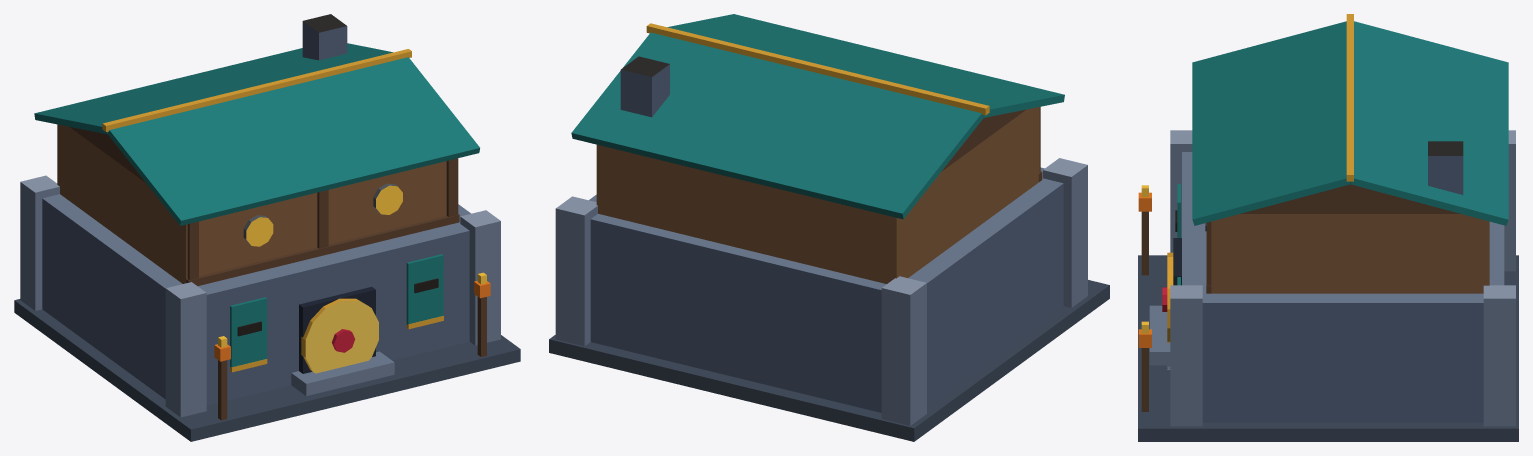
File: bld_guild_hall_3x3.glb
3 views of the same model, side by side, from view 1: azimuth 30°, elevation 25°; view 2: azimuth 150°, elevation 25°; view 3: azimuth 270°, elevation 25° (orthographic). The views are drawn at different scales.
Parts seen in each view (by area): view 1: bld_guild_hall_3x32; view 2: bld_guild_hall_3x32; view 3: bld_guild_hall_3x32.
Boxes of the visible parts, x1,y1,x2,y2 form: bld_guild_hall_3x32: (14, 14, 520, 441); bld_guild_hall_3x32: (549, 14, 1109, 441); bld_guild_hall_3x32: (1138, 14, 1518, 441).
Size of the model in its own units: 2.8 by 2 by 2.6.
1 material, 1 textured.
